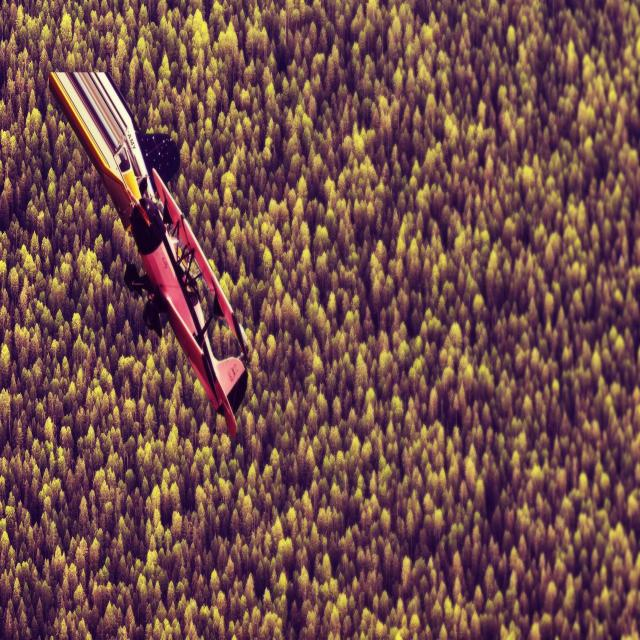airplane: (47, 68, 249, 439)
